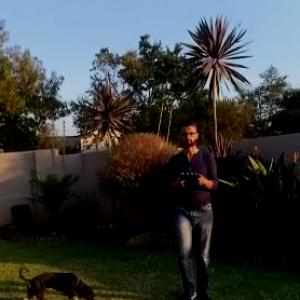follow: (169, 113, 222, 299)
null: (14, 261, 99, 299)
